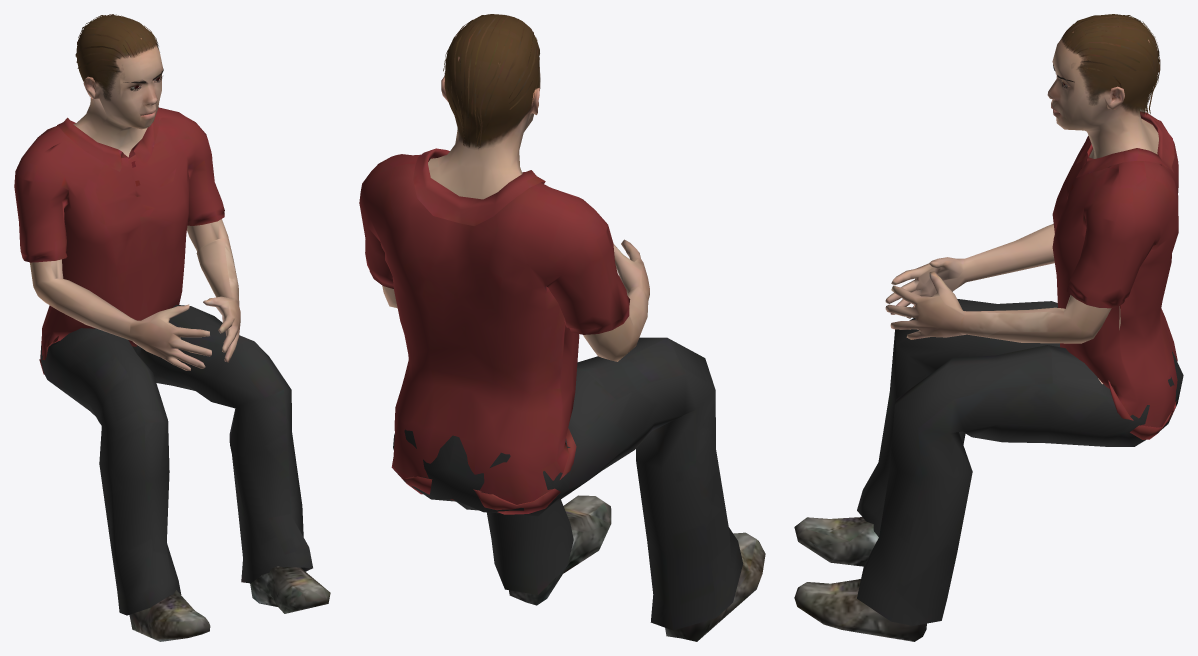
The model's file is mq-bench_man.glb.
The picture shows the model from 3 angles, left to right: view 1: azimuth 30°, elevation 25°; view 2: azimuth 150°, elevation 25°; view 3: azimuth 270°, elevation 25°; orthographic projection. The views are drawn at different scales.
Parts seen in each view (by area): view 1: MQ_bench_man; view 2: MQ_bench_man; view 3: MQ_bench_man.
Part boxes in pixels (<box>): MQ_bench_man: <box>14,14,330,641</box>; MQ_bench_man: <box>359,14,765,641</box>; MQ_bench_man: <box>794,14,1183,641</box>.
Size of the model in its own units: 0.4845 by 1.24 by 0.7492.
Materials: 1 (1 with a texture image).
